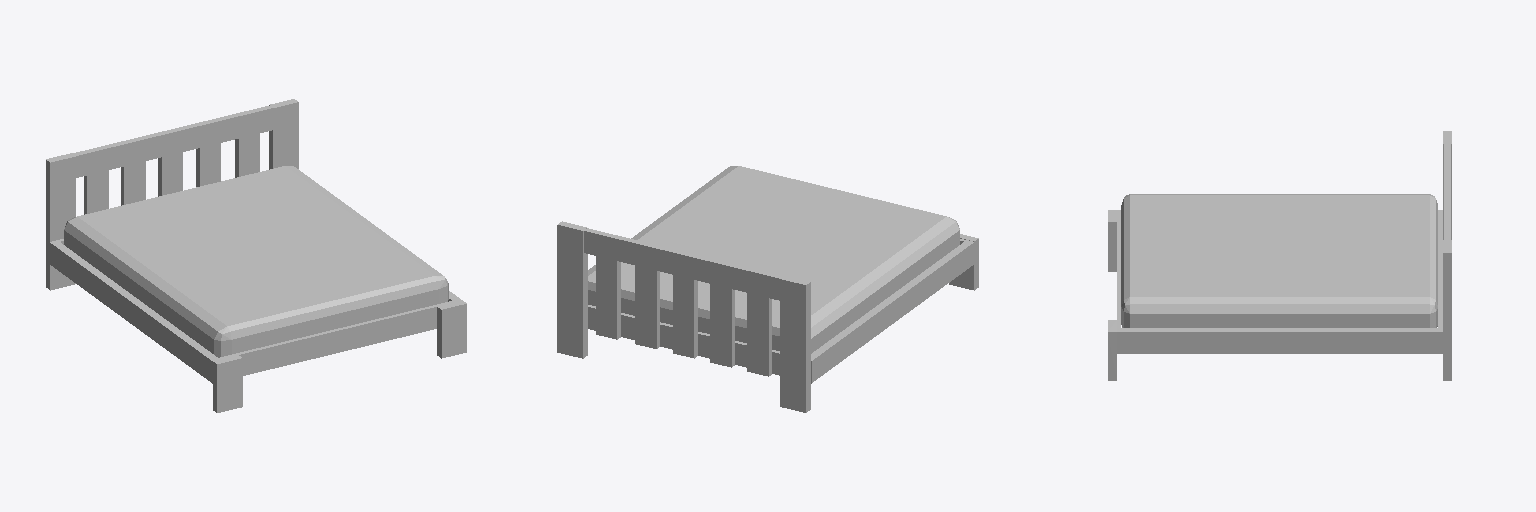
Rendered from bed.obj.
The picture shows the model from 3 angles: view 1: azimuth 30°, elevation 25°; view 2: azimuth 150°, elevation 25°; view 3: azimuth 270°, elevation 25°; orthographic projection.
Parts seen in each view (by area): view 1: BedSingle01emptyV1; view 2: BedSingle01emptyV1; view 3: BedSingle01emptyV1.
Part boxes in pixels (x1,y1,x2,y2): BedSingle01emptyV1: (46, 99, 466, 412); BedSingle01emptyV1: (557, 166, 978, 412); BedSingle01emptyV1: (1108, 131, 1451, 380).
Size of the model in its own units: 8.85 by 4.33 by 10.55.